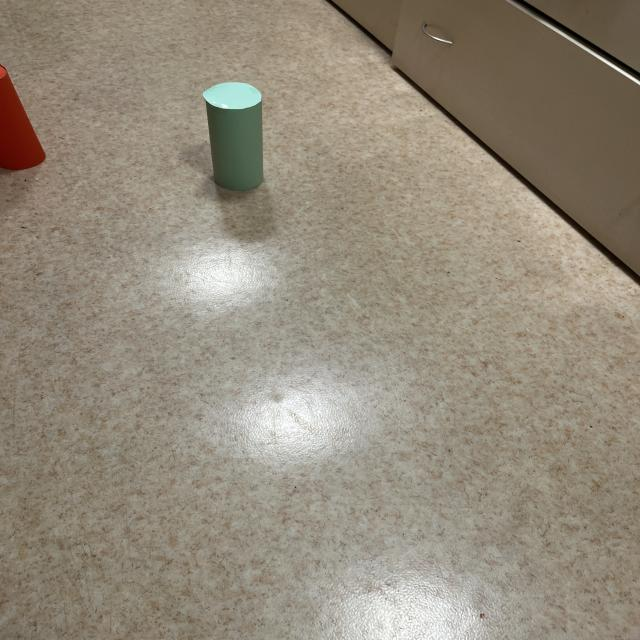meta: (203, 83, 263, 191)
